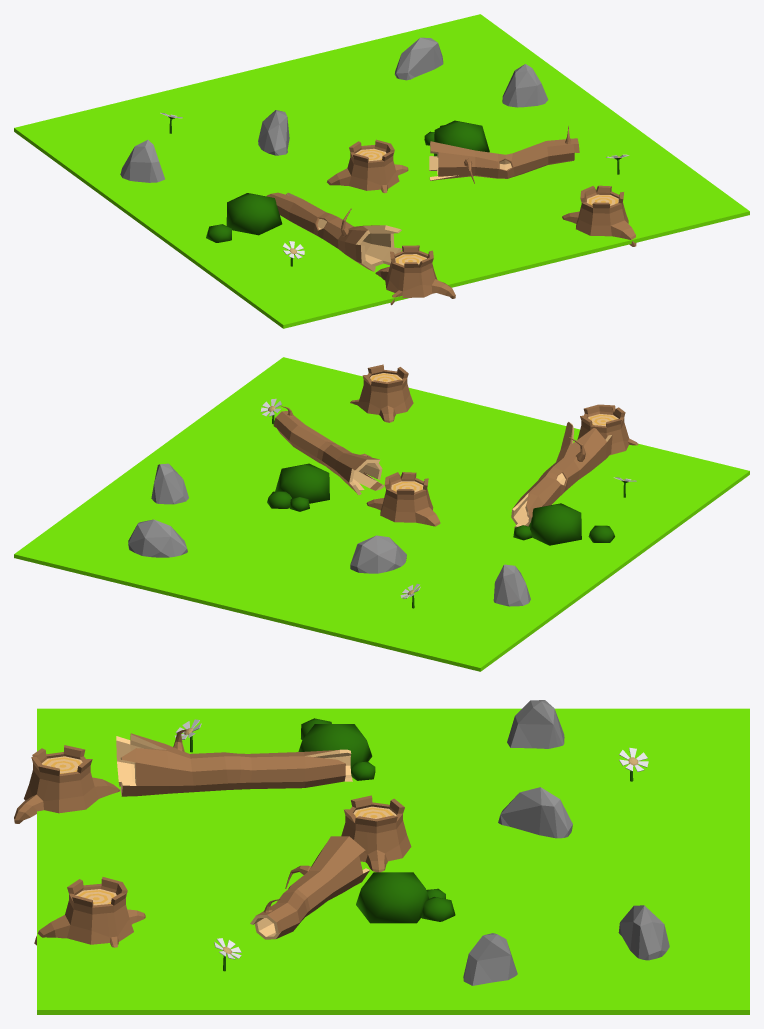
File: Forest_Tile_4 (1).fbx
The picture shows the model from 3 angles, top to bottom: view 1: azimuth 30°, elevation 25°; view 2: azimuth 150°, elevation 25°; view 3: azimuth 270°, elevation 25°; orthographic projection. The views are drawn at different scales.
Visible parts, largest first — view 1: Plane.003, Circle.005, Circle.006, Plane.006|Circle.004|Dupli|8, Plane.006|Circle.004|Dupli|, Plane.006|Circle.004|Dupli|4, Icosphere.014, Plane.006|Icosphere.007|Dupli|6, Plane.006|Icosphere.008|Dupli|7, Plane.006|Icosphere.008|Dupli|3, Icosphere.009, Plane.006|Icosphere.007|Dupli|2; view 2: Plane.003, Circle.006, Circle.005, Plane.006|Circle.004|Dupli|, Plane.006|Circle.004|Dupli|4, Icosphere.014, Plane.006|Icosphere.007|Dupli|6, Plane.006|Icosphere.007|Dupli|2, Icosphere.009, Plane.006|Circle.004|Dupli|8, Plane.006|Icosphere.008|Dupli|3, Plane.006|Icosphere.008|Dupli|7; view 3: Plane.003, Circle.006, Circle.005, Plane.006|Circle.004|Dupli|8, Plane.006|Circle.004|Dupli|4, Plane.006|Circle.004|Dupli|, Icosphere.009, Plane.006|Icosphere.007|Dupli|2, Plane.006|Icosphere.008|Dupli|3, Plane.006|Icosphere.008|Dupli|7, Plane.006|Icosphere.007|Dupli|6, Icosphere.014 (+1 smaller).
Boxes of the visible parts, bbox=[...] form: Plane.003: bbox=[14, 14, 749, 328]; Circle.005: bbox=[429, 126, 579, 183]; Circle.006: bbox=[266, 192, 402, 271]; Plane.006|Circle.004|Dupli|8: bbox=[375, 245, 455, 305]; Plane.006|Circle.004|Dupli|: bbox=[327, 139, 408, 193]; Plane.006|Circle.004|Dupli|4: bbox=[562, 185, 636, 246]; Icosphere.014: bbox=[226, 193, 282, 235]; Plane.006|Icosphere.007|Dupli|6: bbox=[394, 37, 443, 80]; Plane.006|Icosphere.008|Dupli|7: bbox=[502, 64, 548, 107]; Plane.006|Icosphere.008|Dupli|3: bbox=[120, 140, 164, 182]; Icosphere.009: bbox=[434, 120, 489, 156]; Plane.006|Icosphere.007|Dupli|2: bbox=[258, 110, 289, 155]; Plane.003: bbox=[14, 357, 749, 671]; Circle.006: bbox=[511, 422, 612, 527]; Circle.005: bbox=[273, 406, 384, 494]; Plane.006|Circle.004|Dupli|: bbox=[366, 472, 440, 526]; Plane.006|Circle.004|Dupli|4: bbox=[350, 364, 413, 422]; Icosphere.014: bbox=[528, 503, 581, 545]; Plane.006|Icosphere.007|Dupli|6: bbox=[128, 519, 187, 557]; Plane.006|Icosphere.007|Dupli|2: bbox=[350, 535, 406, 573]; Icosphere.009: bbox=[275, 463, 329, 503]; Plane.006|Circle.004|Dupli|8: bbox=[577, 404, 638, 455]; Plane.006|Icosphere.008|Dupli|3: bbox=[493, 564, 530, 606]; Plane.006|Icosphere.008|Dupli|7: bbox=[151, 463, 188, 504]; Plane.003: bbox=[37, 708, 749, 1014]; Circle.006: bbox=[116, 729, 352, 796]; Circle.005: bbox=[250, 836, 369, 939]; Plane.006|Circle.004|Dupli|8: bbox=[14, 745, 119, 823]; Plane.006|Circle.004|Dupli|4: bbox=[34, 877, 145, 947]; Plane.006|Circle.004|Dupli|: bbox=[341, 795, 411, 872]; Icosphere.009: bbox=[356, 872, 429, 923]; Plane.006|Icosphere.007|Dupli|2: bbox=[498, 787, 572, 838]; Plane.006|Icosphere.008|Dupli|3: bbox=[507, 700, 564, 748]; Plane.006|Icosphere.008|Dupli|7: bbox=[463, 933, 517, 985]; Plane.006|Icosphere.007|Dupli|6: bbox=[618, 905, 669, 960]; Icosphere.014: bbox=[298, 724, 372, 769].
Size of the model in its own units: 650 by 671 by 102.
